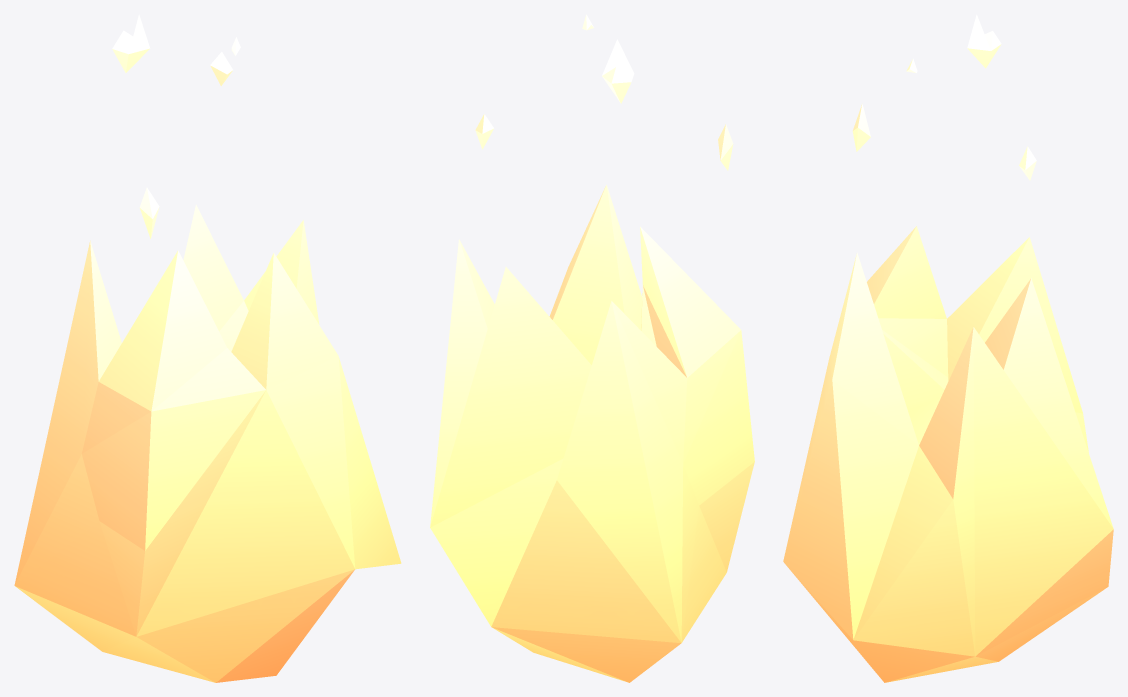
3 views of the same model, side by side, from view 1: azimuth 30°, elevation 25°; view 2: azimuth 150°, elevation 25°; view 3: azimuth 270°, elevation 25° (orthographic). The views are drawn at different scales.
Parts seen in each view (by area): view 1: Fire2_0; view 2: Fire2_0; view 3: Fire2_0.
Part boxes in pixels (x1=…): Fire2_0: x1=14, y1=14, x2=401, y2=682; Fire2_0: x1=430, y1=14, x2=754, y2=682; Fire2_0: x1=783, y1=14, x2=1113, y2=682.
Size of the model in its own units: 2.81 by 5.94 by 2.84.
1 material, 1 textured.
